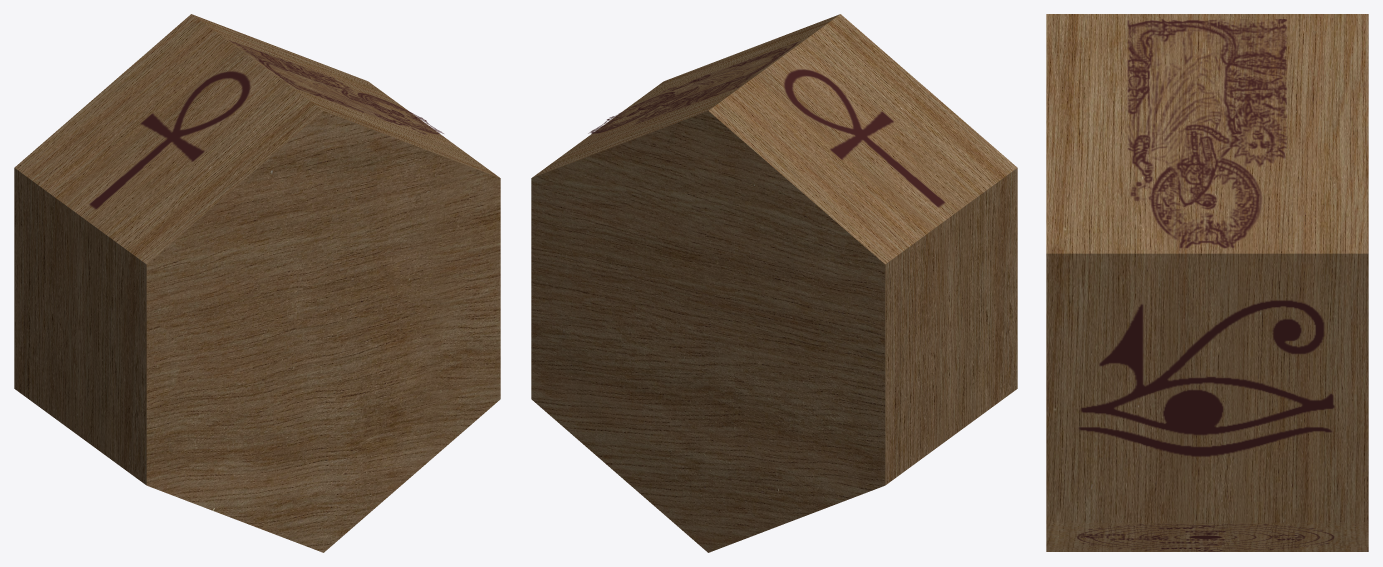
The model's file is Rodacerta.glb.
3 renders of one model, left to right at view 1: azimuth 30°, elevation 25°; view 2: azimuth 150°, elevation 25°; view 3: azimuth 270°, elevation 25°, orthographic. The views are drawn at different scales.
Visible parts, largest first — view 1: Cylinder; view 2: Cylinder; view 3: Cylinder.
Boxes of the visible parts, x1=… form: Cylinder: x1=14, y1=14, x2=500, y2=552; Cylinder: x1=531, y1=14, x2=1017, y2=552; Cylinder: x1=1046, y1=14, x2=1368, y2=551.
Size of the model in its own units: 0.2965 by 0.3497 by 0.1884.
Materials: 7 (7 with a texture image).
